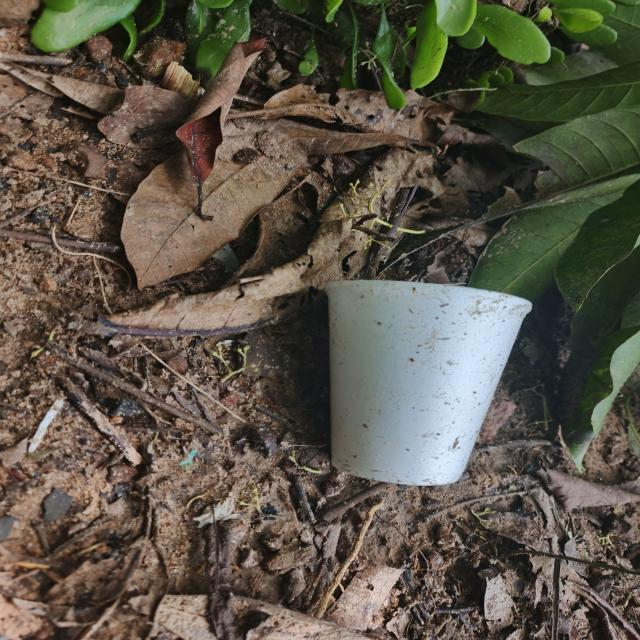plastic: (316, 268, 542, 496)
